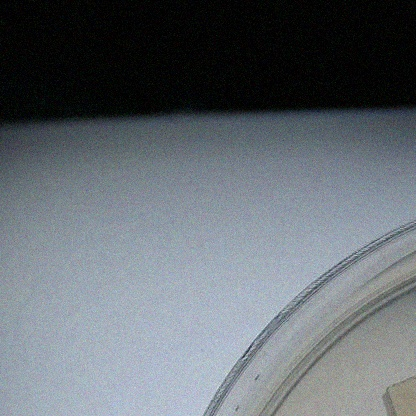worm: (402, 337, 416, 352)
